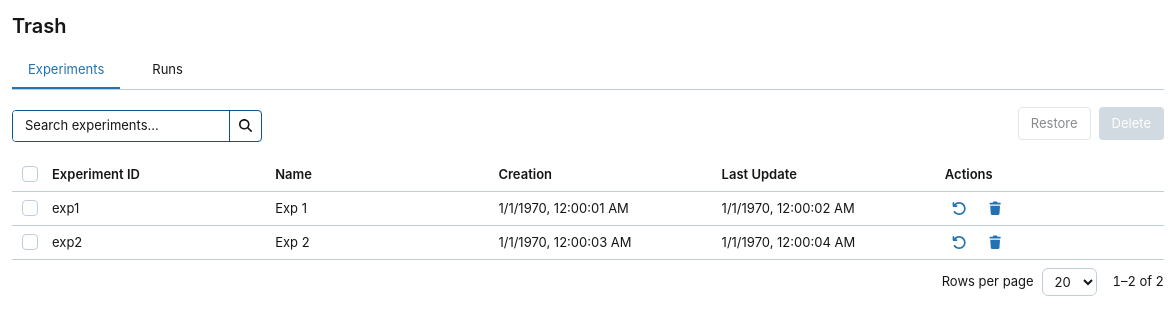
Scenario: TrashPage › handles select all
Click the checkbox next to "Experiment ID": (30, 174) [22,166,38,182]
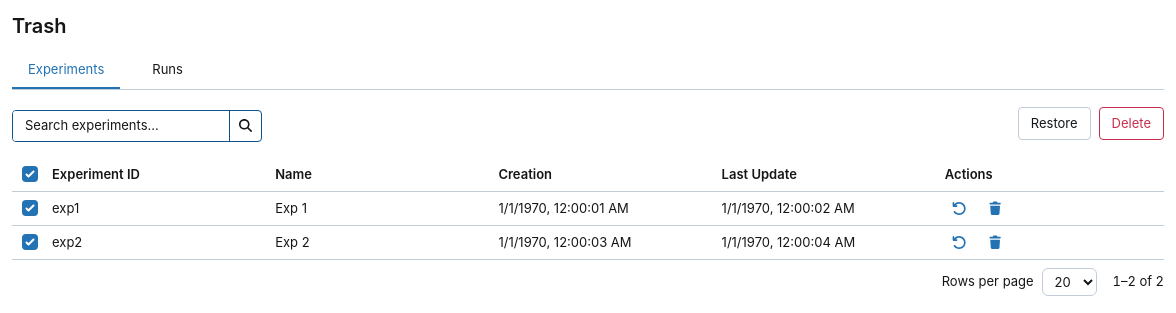
expect the button "Restore" is enabled: met, box [1018,107,1091,140]
